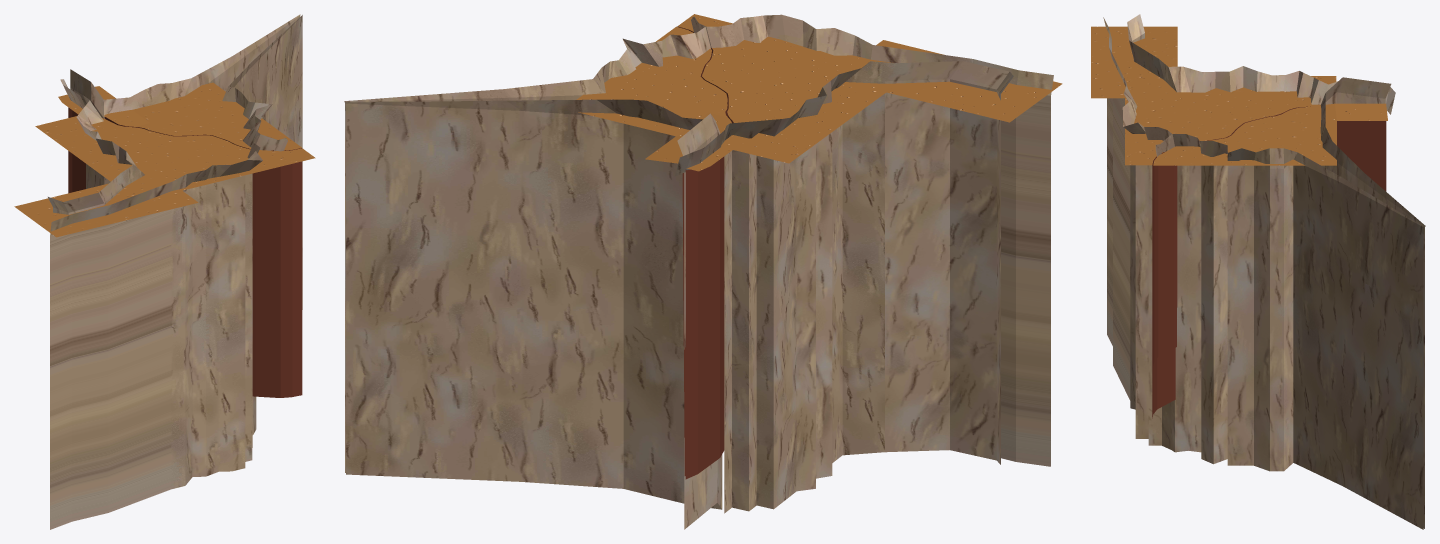
File: World_Frame_03_240525.fbx
3 views of the same model, side by side, from view 1: azimuth 30°, elevation 25°; view 2: azimuth 150°, elevation 25°; view 3: azimuth 270°, elevation 25° (orthographic). The views are drawn at different scales.
Visible parts, largest first — view 1: Ground-Cliffs, Ground_Start, Ground_Monument, Ground-Cliffs.001; view 2: Ground-Cliffs, Ground-Cliffs.001, Ground_Start, Ground_Monument; view 3: Ground-Cliffs, Ground_Start, Ground_Monument, Ground-Cliffs.001.
Boxes of the visible parts, x1,y1,x2,y2 form: Ground-Cliffs: [50, 14, 302, 529]; Ground_Start: [14, 94, 315, 397]; Ground_Monument: [95, 82, 301, 150]; Ground-Cliffs.001: [48, 79, 144, 214]; Ground-Cliffs: [344, 14, 1053, 529]; Ground-Cliffs.001: [674, 61, 1013, 513]; Ground_Start: [677, 14, 1062, 479]; Ground_Monument: [576, 26, 731, 475]; Ground-Cliffs: [1103, 17, 1425, 529]; Ground_Start: [1091, 26, 1386, 418]; Ground_Monument: [1153, 103, 1387, 365]; Ground-Cliffs.001: [1127, 14, 1395, 114].
Bounding box in the file's own units: 45887 × 35023 × 31678.
